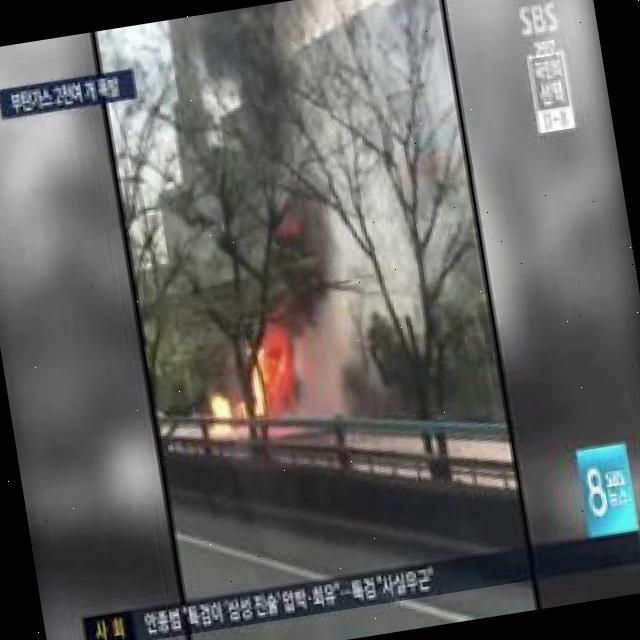fire: (243, 323, 310, 429), (207, 394, 245, 448)
